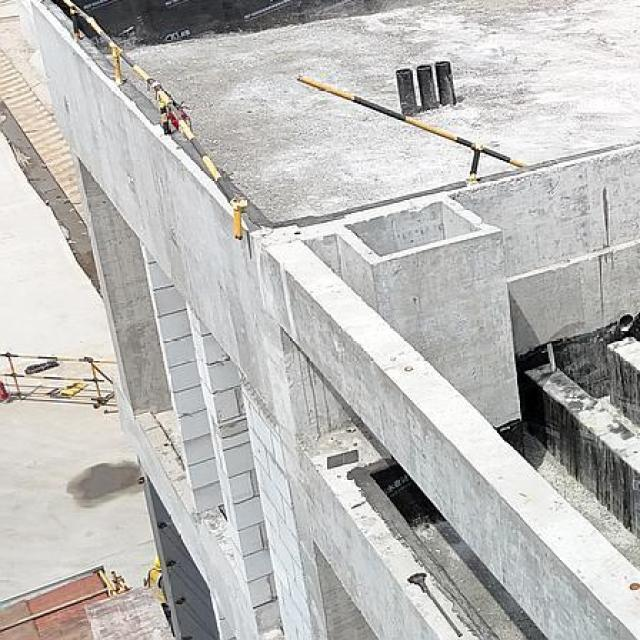edge_guardrail: (62, 0, 250, 241), (296, 75, 527, 182)
